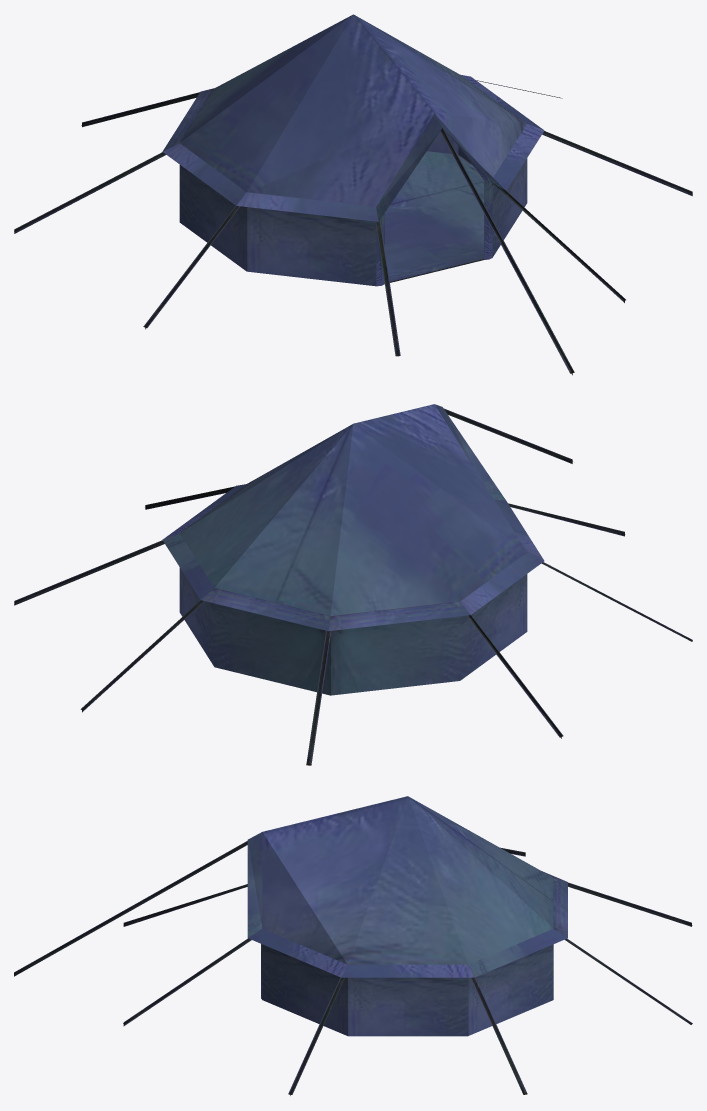
The model's file is Tent01BB.obj.
3 views of the same model, one above another, from view 1: azimuth 30°, elevation 25°; view 2: azimuth 150°, elevation 25°; view 3: azimuth 270°, elevation 25° (orthographic). The views are drawn at different scales.
Parts seen in each view (by area): view 1: Tent01BB; view 2: Tent01BB; view 3: Tent01BB.
Part boxes in pixels (x1=…): Tent01BB: x1=14, y1=14, x2=692, y2=375; Tent01BB: x1=14, y1=404, x2=692, y2=765; Tent01BB: x1=14, y1=796, x2=692, y2=1095.
Bounding box in the file's own units: 10.85 × 3.8 × 12.93.
